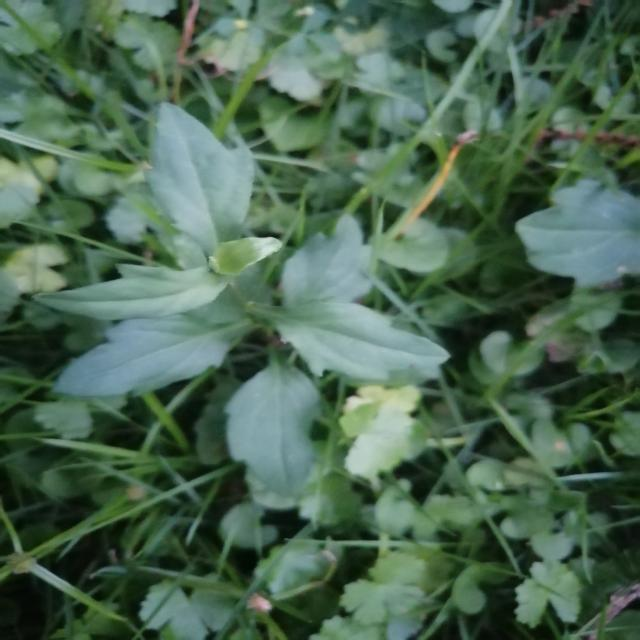Indian aster: (70, 126, 410, 458)
